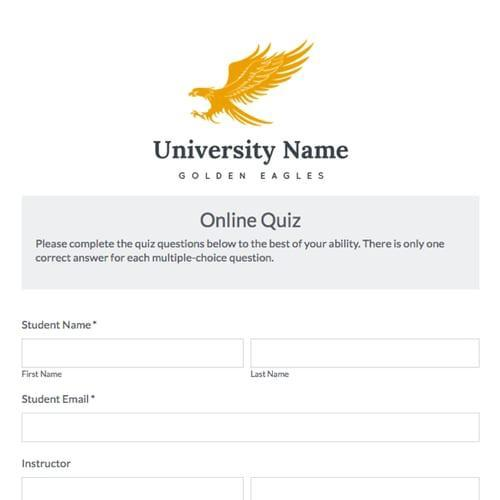input: (23, 413, 482, 442), (250, 337, 482, 369), (21, 337, 246, 369), (21, 476, 244, 500), (250, 478, 483, 500)
label: (20, 316, 101, 337), (20, 390, 105, 409), (20, 456, 80, 473), (249, 368, 296, 382), (18, 371, 71, 380)
